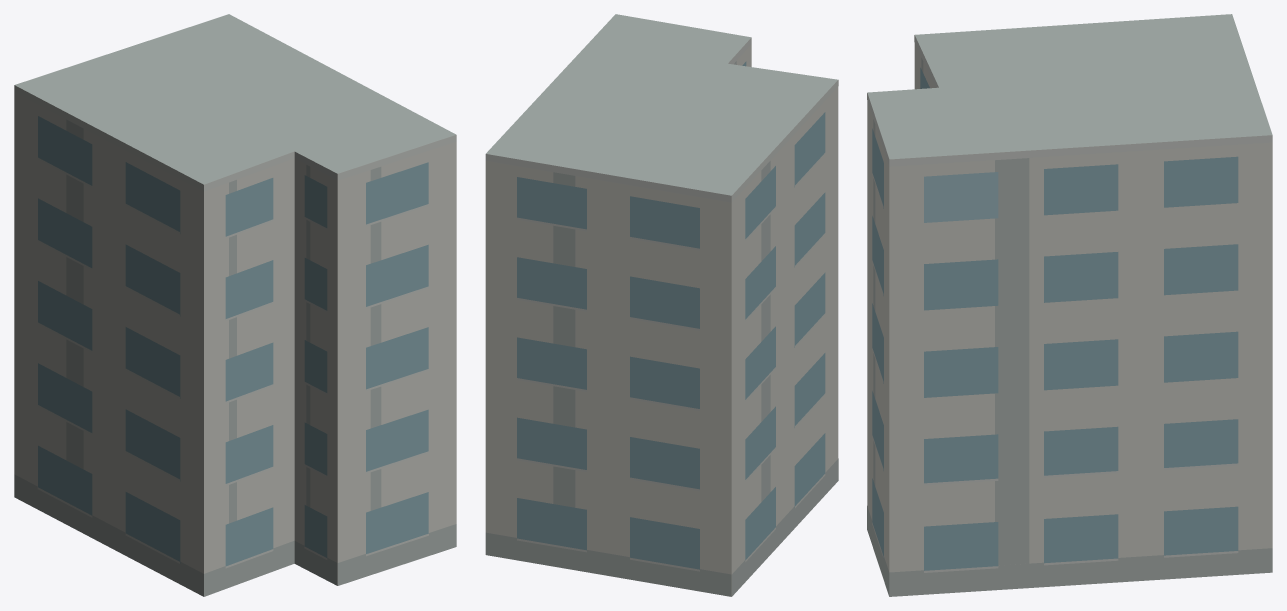
Rendered from survey-upis-32906244.glb.
The picture shows the model from 3 angles, left to right: view 1: azimuth 30°, elevation 25°; view 2: azimuth 150°, elevation 25°; view 3: azimuth 270°, elevation 25°; orthographic projection. The views are drawn at different scales.
Parts seen in each view (by area): view 1: survey-upis-32906244.tmp; view 2: survey-upis-32906244.tmp; view 3: survey-upis-32906244.tmp.
Boxes of the visible parts, box(x1,y1,x2,y2) form: survey-upis-32906244.tmp: box(14, 14, 456, 596); survey-upis-32906244.tmp: box(485, 14, 838, 596); survey-upis-32906244.tmp: box(867, 14, 1272, 596).
Bounding box in the file's own units: 10.21 × 14.3 × 12.02.
